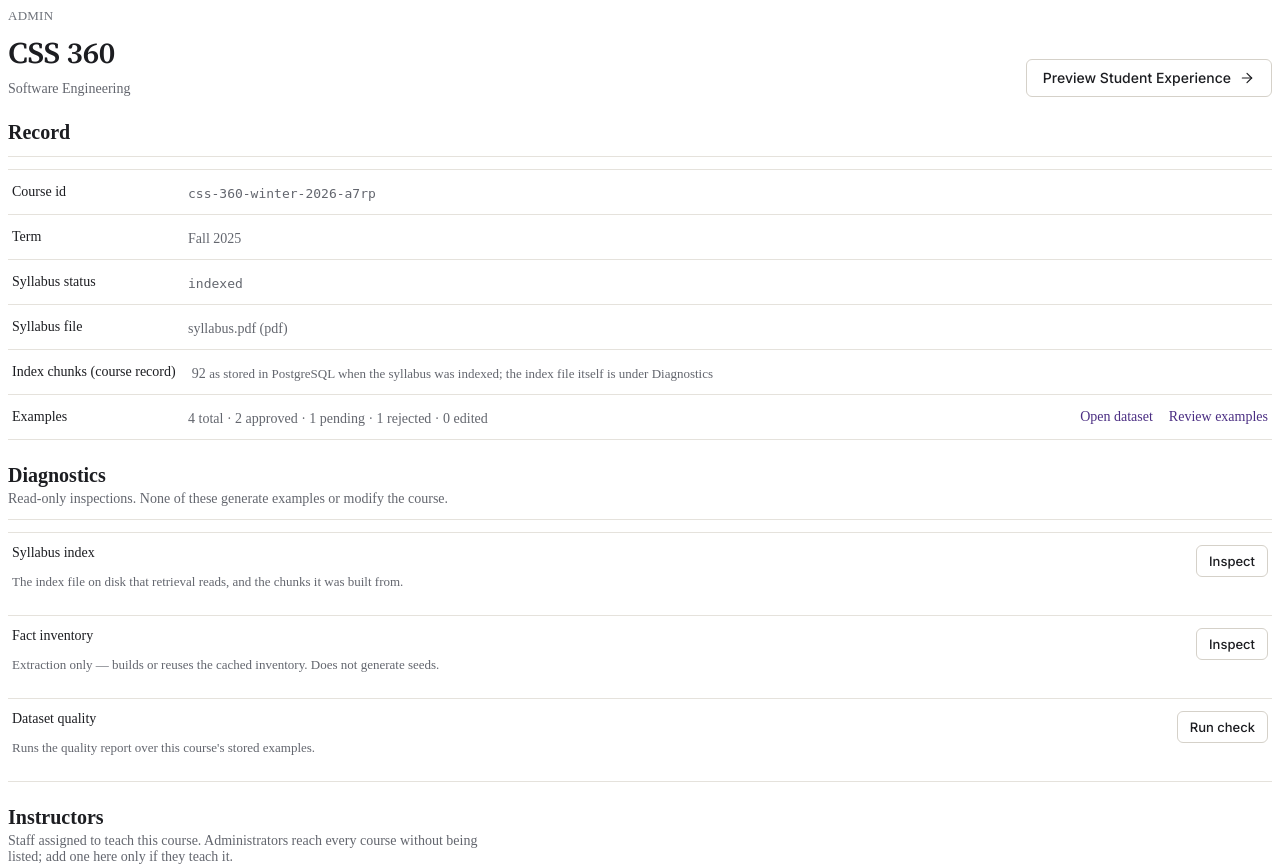
Test: AdminCourseDetailPage fact inventory › shows the error with a Retry that works when the build fails
Click the button "Inspect" in the row of "Fact inventory".
click(1232, 644)  # box [1196,628,1268,660]
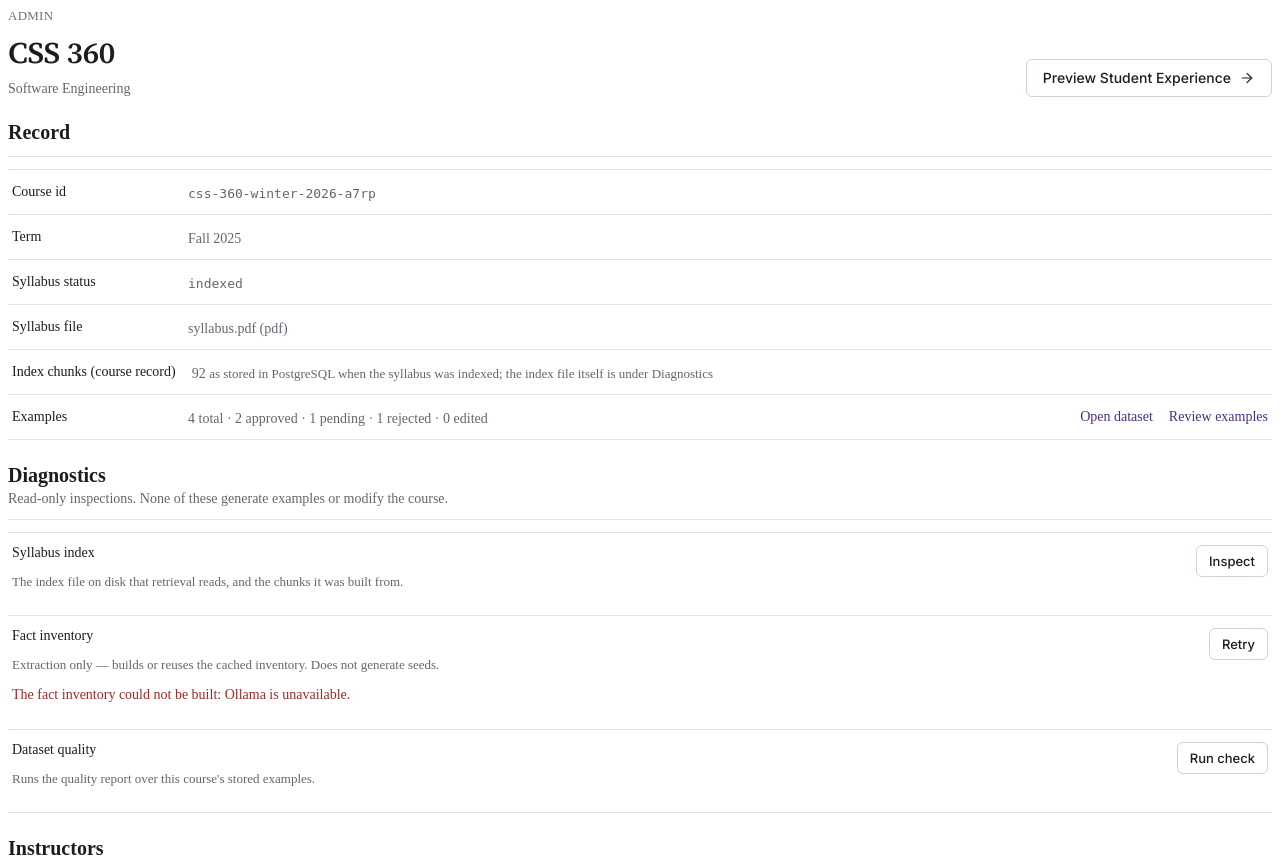
Expected: the message shows "Ollama is unavailable", [12,687,350,702]
Click the button "Retry".
click(1238, 644)  # box [1209,628,1268,660]
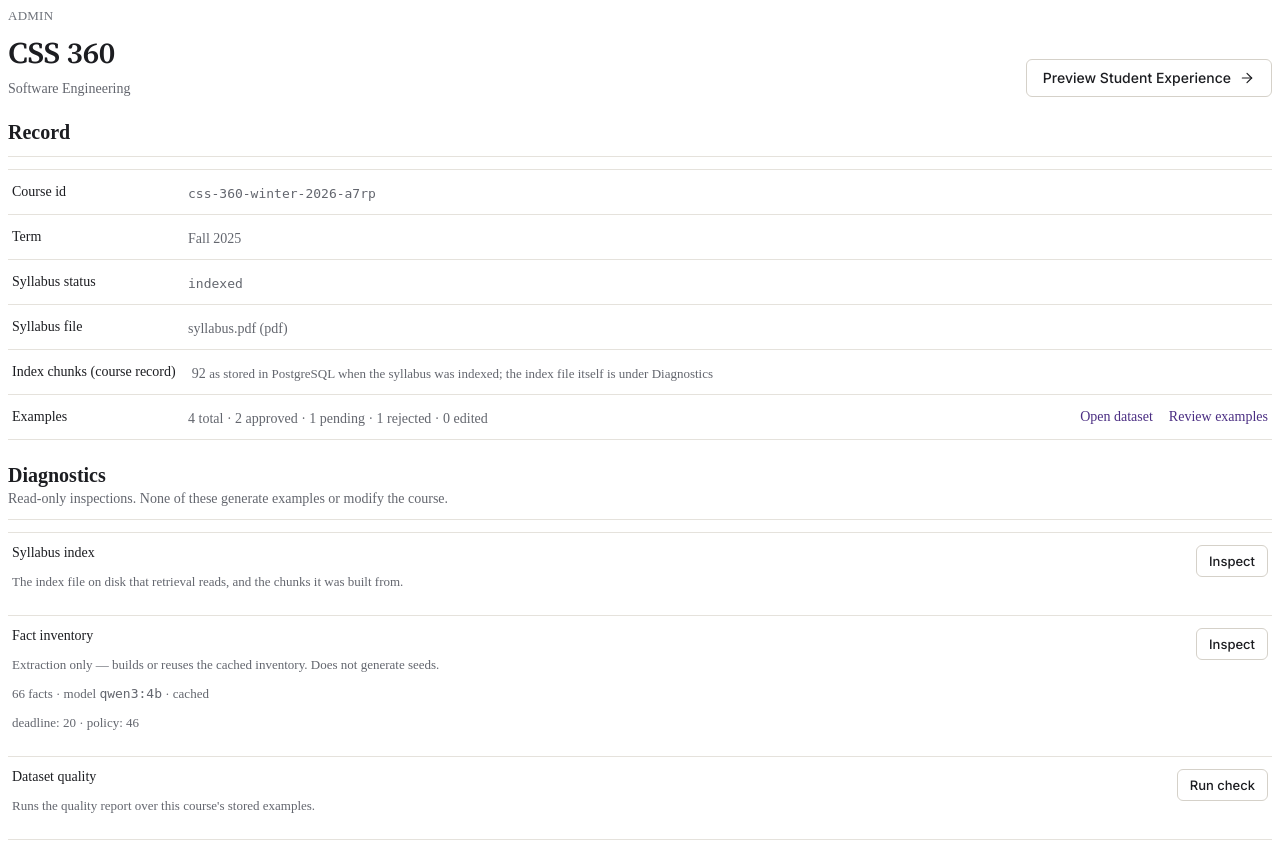
Expected: the list item "Fact inventory" shows "66 facts", [8,616,1272,757]
